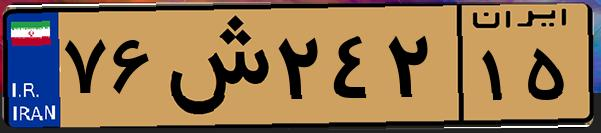1: (475, 38, 525, 113)
2: (270, 28, 330, 110), (385, 28, 445, 110)
4: (330, 28, 385, 110)
5: (525, 38, 570, 115)
6: (110, 28, 158, 98)
7: (57, 26, 110, 100)
ش: (158, 12, 270, 120)
